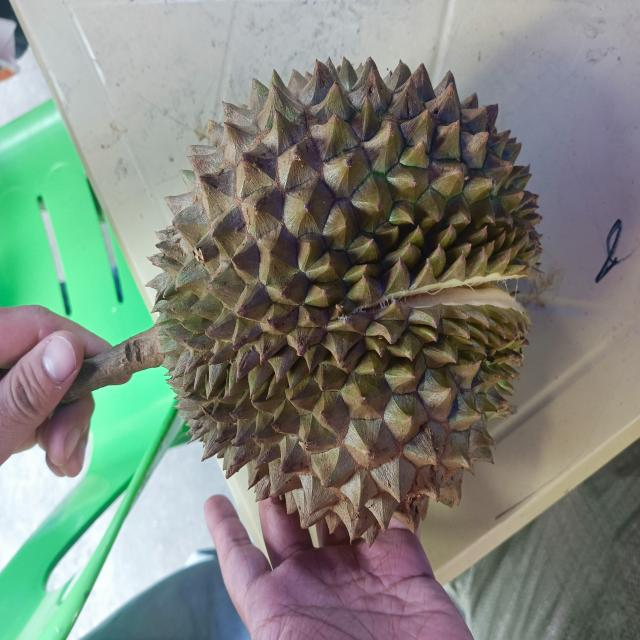defective: (120, 49, 563, 577)
